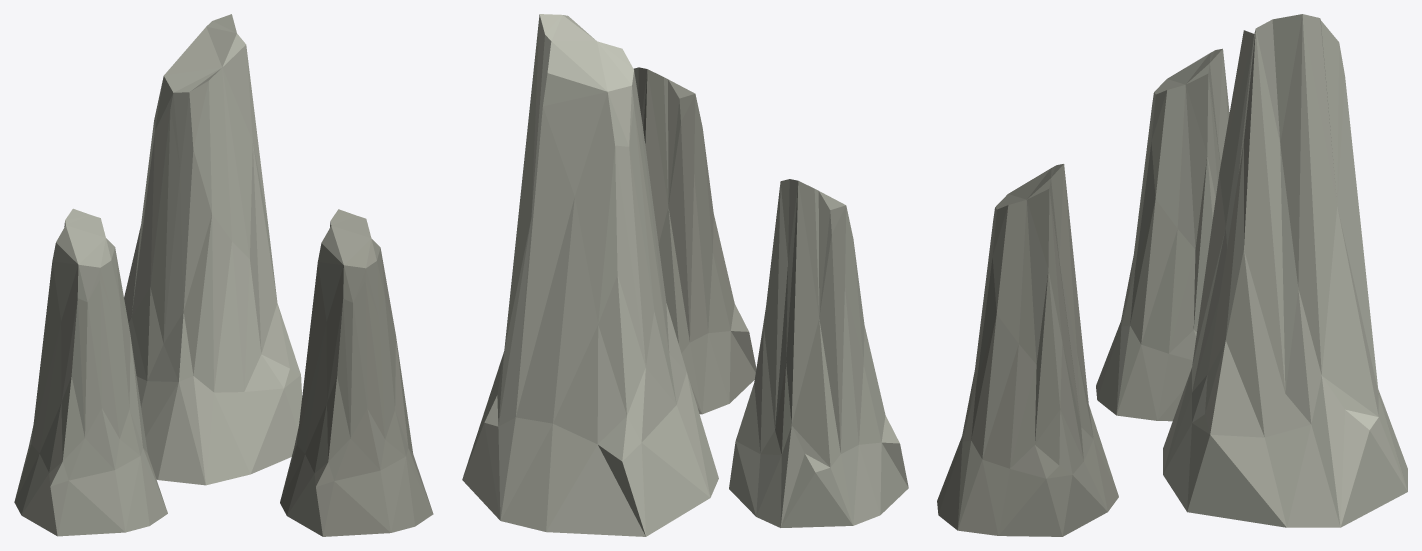
The model's file is DD_Rock010.fbx.
3 views of the same model, side by side, from view 1: azimuth 30°, elevation 25°; view 2: azimuth 150°, elevation 25°; view 3: azimuth 270°, elevation 25° (orthographic). The views are drawn at different scales.
Visible parts, largest first — view 1: DD_Rock010; view 2: DD_Rock010; view 3: DD_Rock010.
Boxes of the visible parts, <box> form: DD_Rock010: <box>14,14,433,536</box>; DD_Rock010: <box>462,14,908,536</box>; DD_Rock010: <box>937,14,1407,536</box>.
Size of the model in its own units: 68.49 by 83 by 73.21.
Materials: 1 (1 with a texture image).
